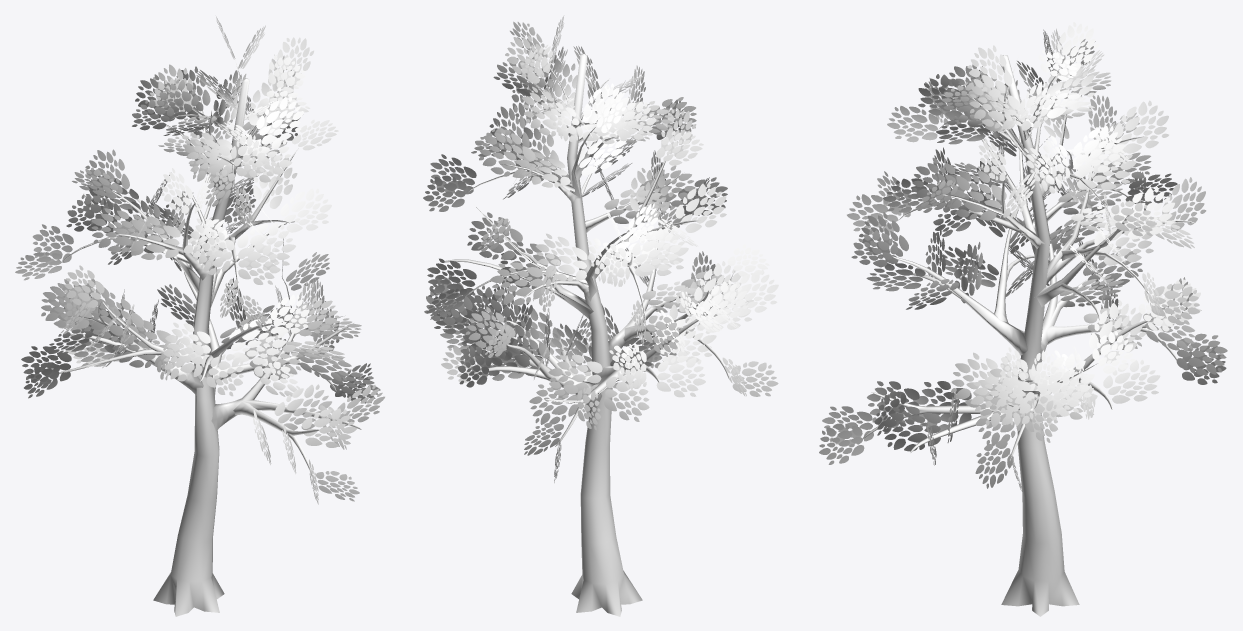
File: decid.obj
The picture shows the model from 3 angles, left to right: view 1: azimuth 30°, elevation 25°; view 2: azimuth 150°, elevation 25°; view 3: azimuth 270°, elevation 25°; orthographic projection. The views are drawn at different scales.
Visible parts, largest first — view 1: generic_deciduous_leaf, object 1; view 2: generic_deciduous_leaf, object 1; view 3: generic_deciduous_leaf, object 1.
Boxes of the visible parts, x1,y1,x2,y2 form: generic_deciduous_leaf: [15, 16, 384, 504]; object 1: [59, 59, 361, 616]; generic_deciduous_leaf: [423, 15, 778, 482]; object 1: [440, 53, 747, 616]; generic_deciduous_leaf: [819, 22, 1227, 494]; object 1: [862, 55, 1201, 616].
Size of the model in its own units: 7.78 by 12.14 by 7.51.
Materials: 2 (1 with a texture image).
